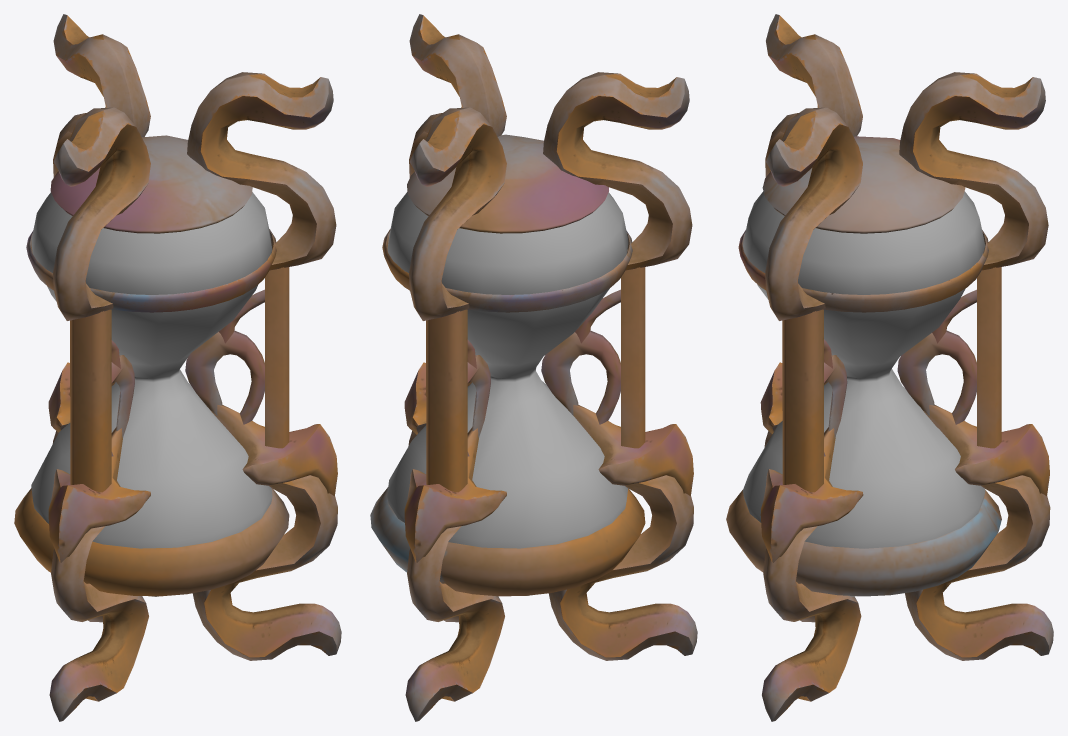
File: SM_Potion_Props_Hourglass_01.fbx
3 views of the same model, side by side, from view 1: azimuth 30°, elevation 25°; view 2: azimuth 150°, elevation 25°; view 3: azimuth 270°, elevation 25° (orthographic).
Visible parts, largest first — view 1: SM_Potion_Props_Hourglass_01_LOD0; view 2: SM_Potion_Props_Hourglass_01_LOD0; view 3: SM_Potion_Props_Hourglass_01_LOD0.
Boxes of the visible parts, x1,y1,x2,y2 form: SM_Potion_Props_Hourglass_01_LOD0: [14, 14, 341, 721]; SM_Potion_Props_Hourglass_01_LOD0: [370, 14, 697, 721]; SM_Potion_Props_Hourglass_01_LOD0: [726, 14, 1053, 721].
Size of what is drawn, in the model's own units: 12.17 by 23.8 by 12.13.
